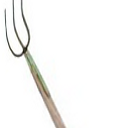fork: (3, 1, 72, 128)
